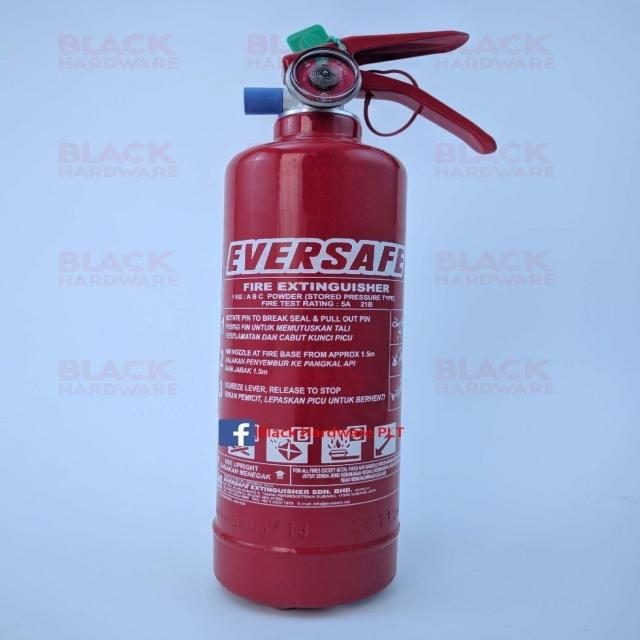fire_extinguisher: (203, 24, 504, 612)
